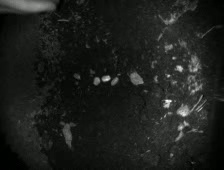corn: (91, 75, 102, 87), (109, 75, 120, 87), (99, 73, 112, 83), (71, 71, 82, 81)
